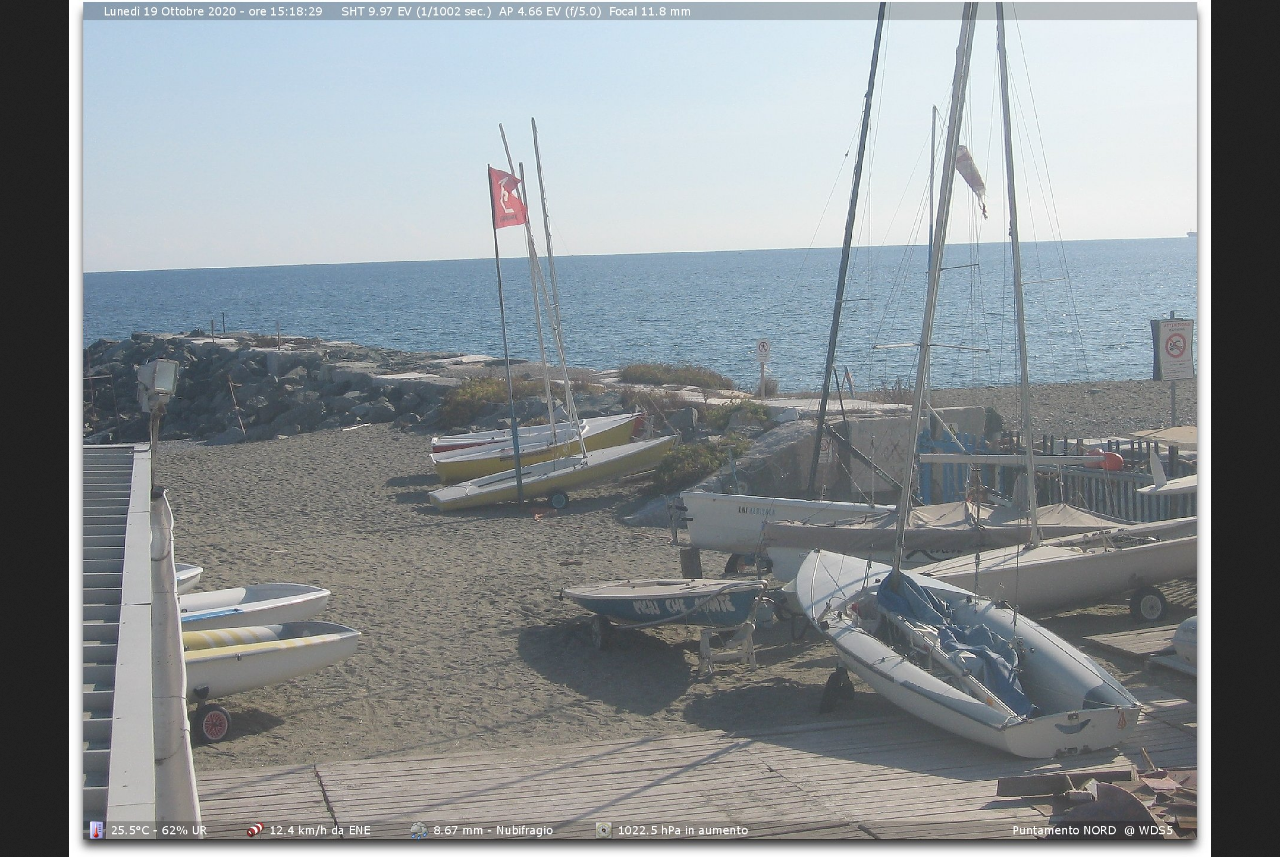maybe: (482, 159, 534, 233)
